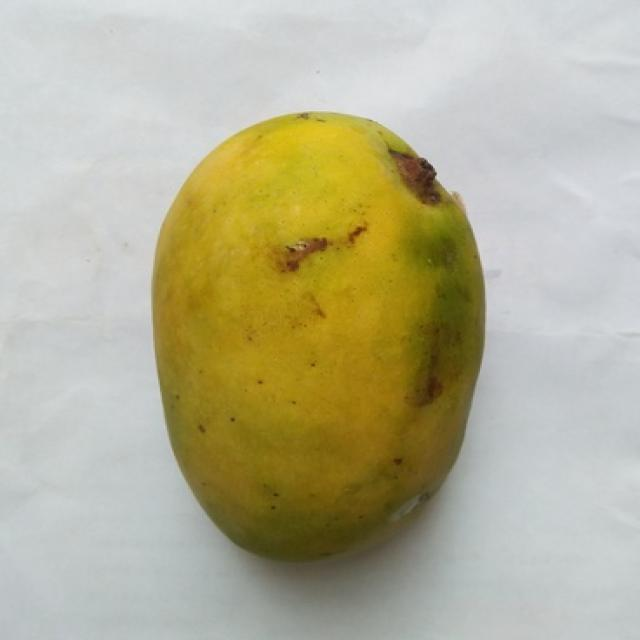Mango: (153, 113, 483, 556)
